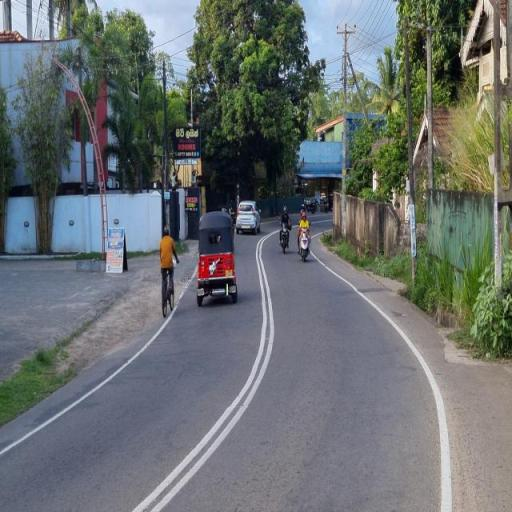double_white_line: (130, 226, 274, 511)
